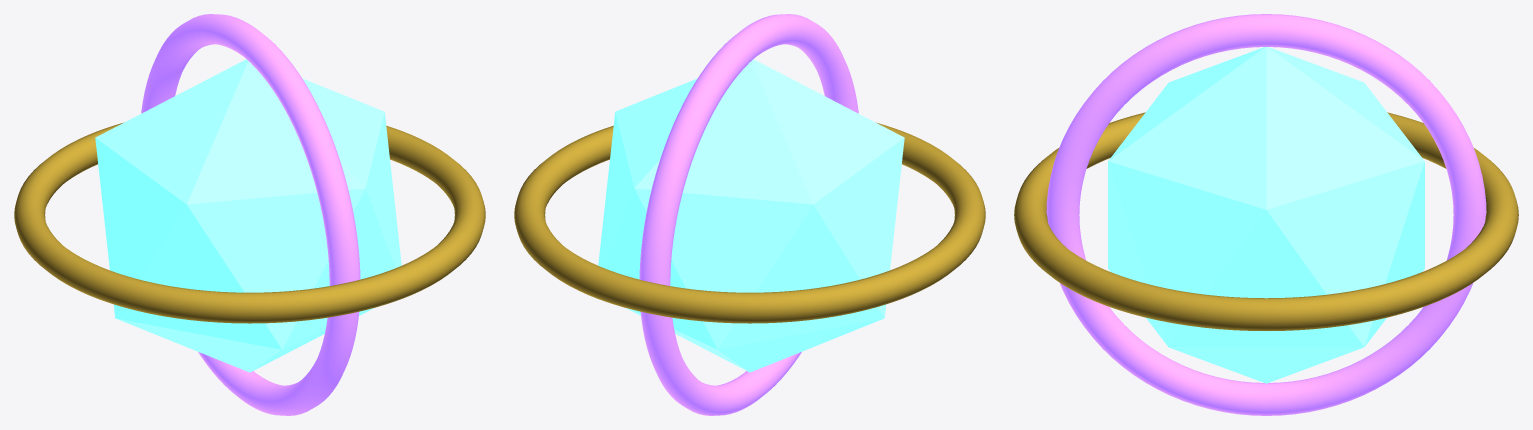
3 renders of one model, left to right at view 1: azimuth 30°, elevation 25°; view 2: azimuth 150°, elevation 25°; view 3: azimuth 270°, elevation 25°, orthographic. The views are drawn at different scales.
Visible parts, largest first — view 1: part_100; view 2: part_100; view 3: part_100.
Part boxes in pixels (<box>): part_100: <box>14,14,485,415</box>; part_100: <box>514,14,985,415</box>; part_100: <box>1014,14,1518,415</box>.
Size of the model in its own units: 0.61 by 0.532 by 0.61.
